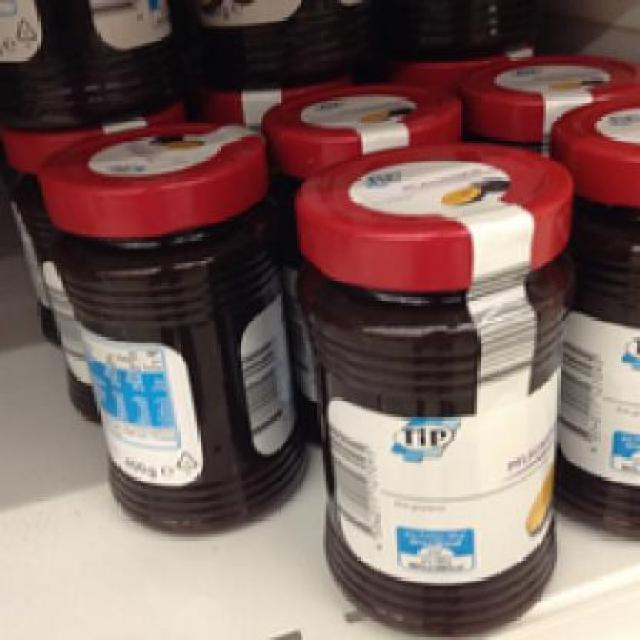Jam: (292, 135, 578, 634), (38, 117, 312, 534)
